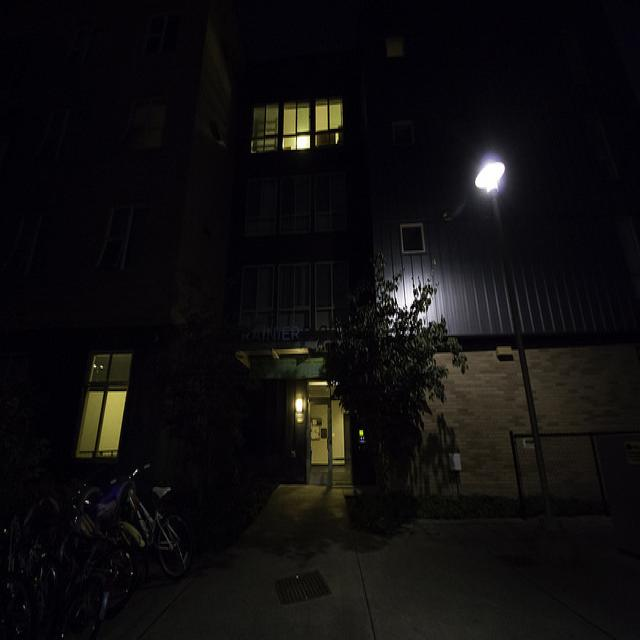Bicycle: (0, 493, 153, 640), (56, 445, 188, 599)
